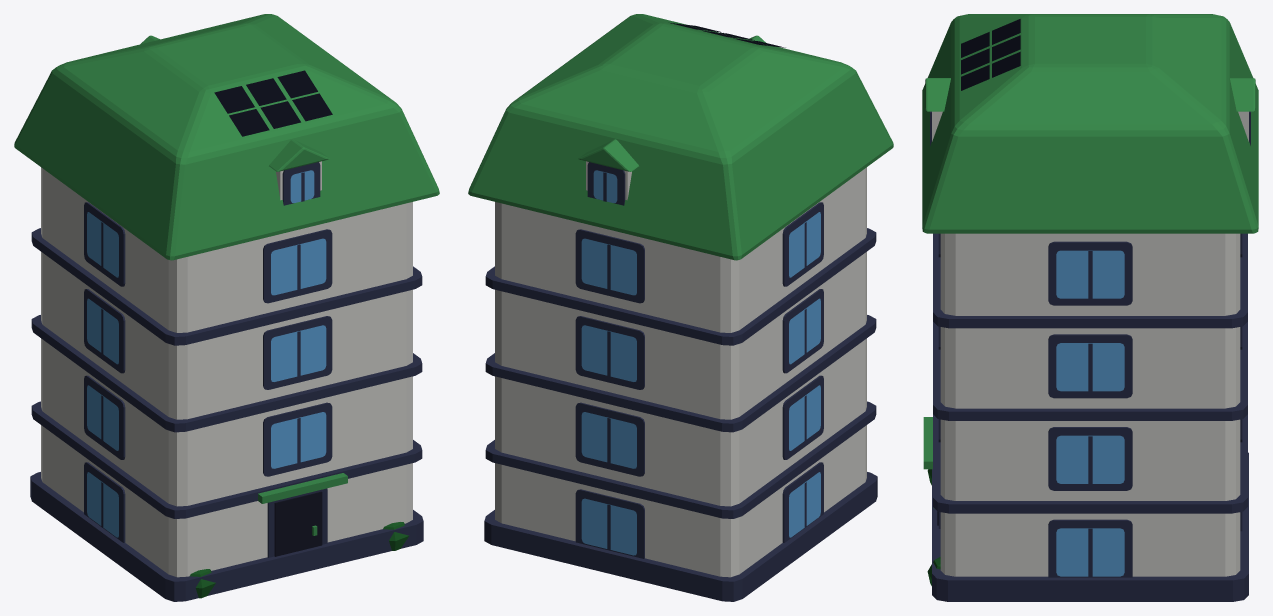
Rendered from house-1x1-4f-mansard-a-solar.glb.
3 views of the same model, side by side, from view 1: azimuth 30°, elevation 25°; view 2: azimuth 150°, elevation 25°; view 3: azimuth 270°, elevation 25° (orthographic). The views are drawn at different scales.
Parts seen in each view (by area): view 1: house-1x1-4f-mansard-a-solar; view 2: house-1x1-4f-mansard-a-solar; view 3: house-1x1-4f-mansard-a-solar.
Part boxes in pixels (x1,y1,x2,y2): house-1x1-4f-mansard-a-solar: (14, 14, 439, 601); house-1x1-4f-mansard-a-solar: (468, 14, 893, 601); house-1x1-4f-mansard-a-solar: (922, 14, 1258, 601).
Size of the model in its own units: 0.9876 by 1.6 by 0.9876.
Materials: 1 (1 with a texture image).
